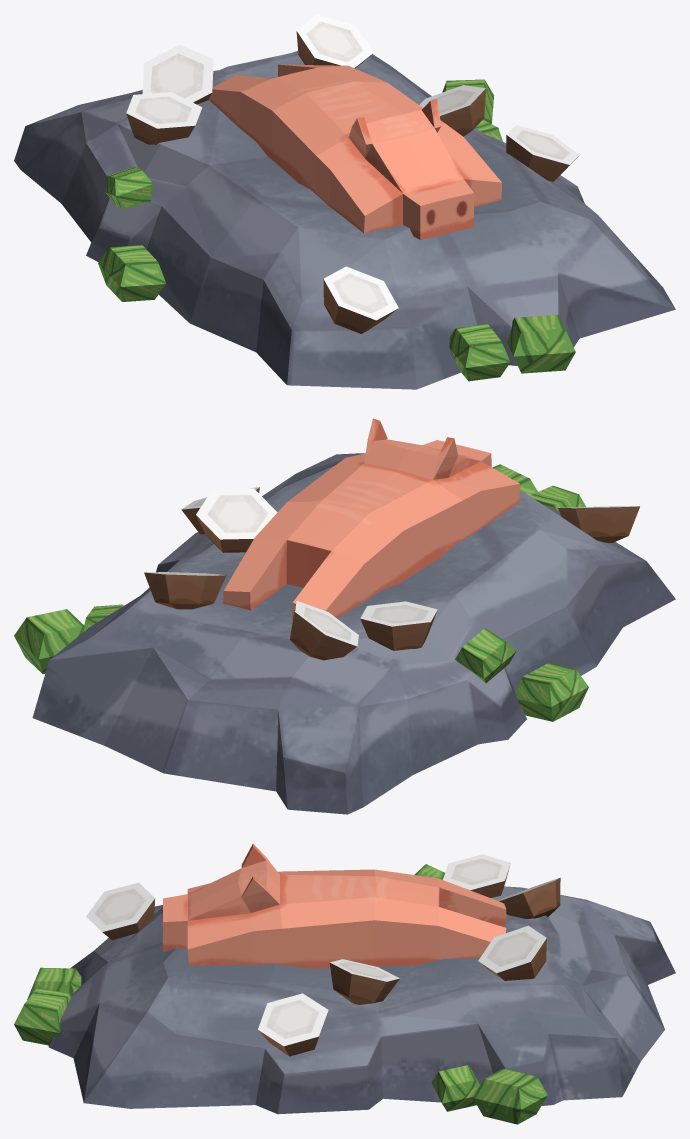
The model's file is umu_hangi.fbx.
The picture shows the model from 3 angles, top to bottom: view 1: azimuth 30°, elevation 25°; view 2: azimuth 150°, elevation 25°; view 3: azimuth 270°, elevation 25°; orthographic projection. The views are drawn at different scales.
Visible parts, largest first — view 1: umu; view 2: umu; view 3: umu.
Boxes of the visible parts, left/top/right/bottom form: umu: left=14, top=14, right=675, bottom=389; umu: left=14, top=418, right=675, bottom=814; umu: left=14, top=843, right=675, bottom=1124.
Size of the model in its own units: 2.06 by 0.7719 by 2.78.
